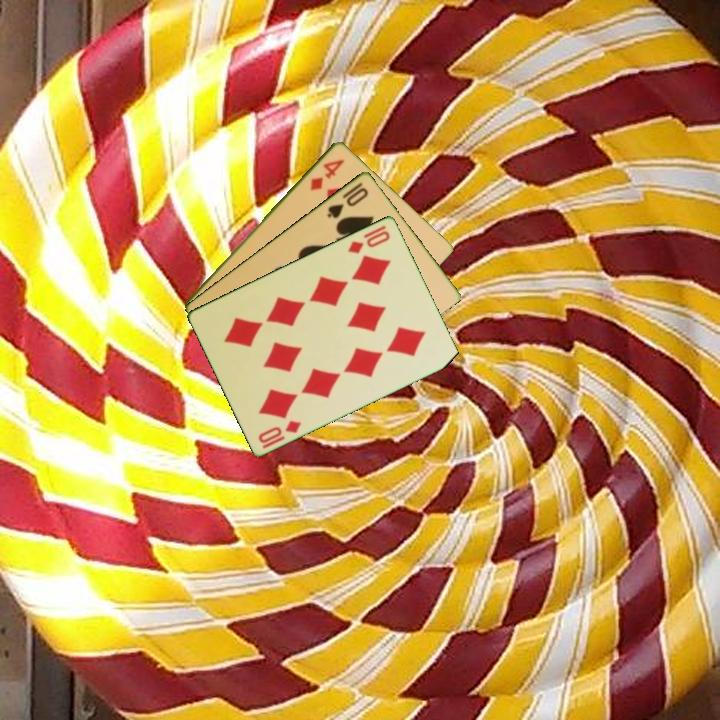10d: (255, 416, 304, 451), (344, 227, 393, 256)
10s: (323, 178, 371, 221)
4d: (306, 155, 347, 193)
